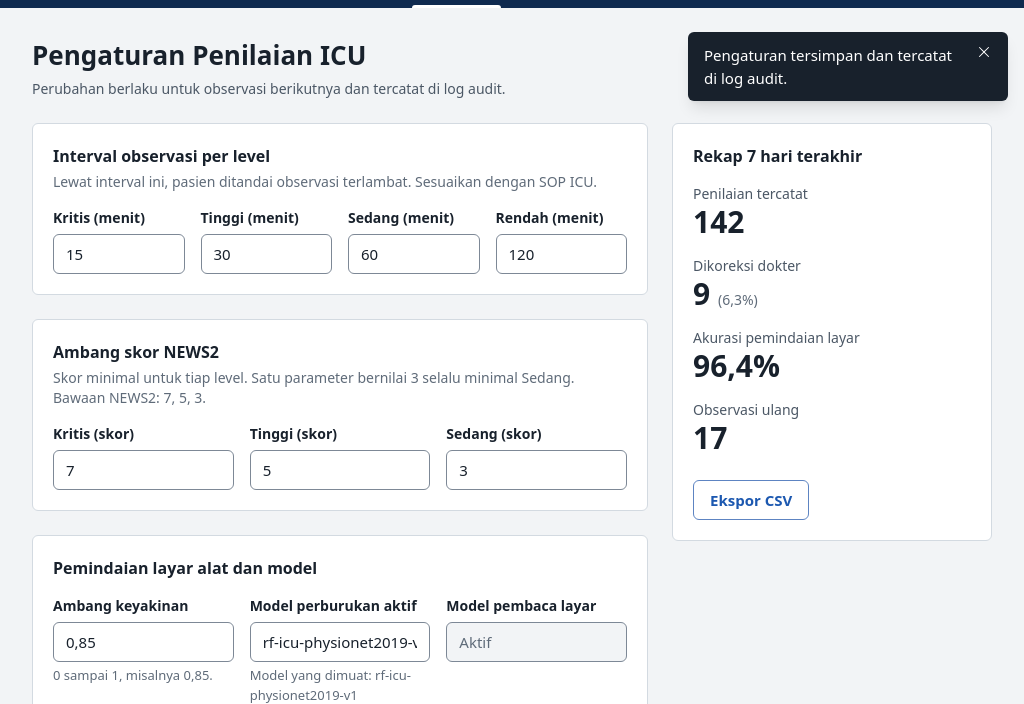
Pengaturan Penilaian ICU › menampilkan pesan urutan ambang dari server di kolomnya
Expected: the field showing "rf-icu-physionet2019-v1" is shown, [250, 622, 430, 662]
Replace the text in the field labelled "Tinggi (skor)" with "8" at (340, 470), box [250, 450, 430, 490]
(page scrolled)
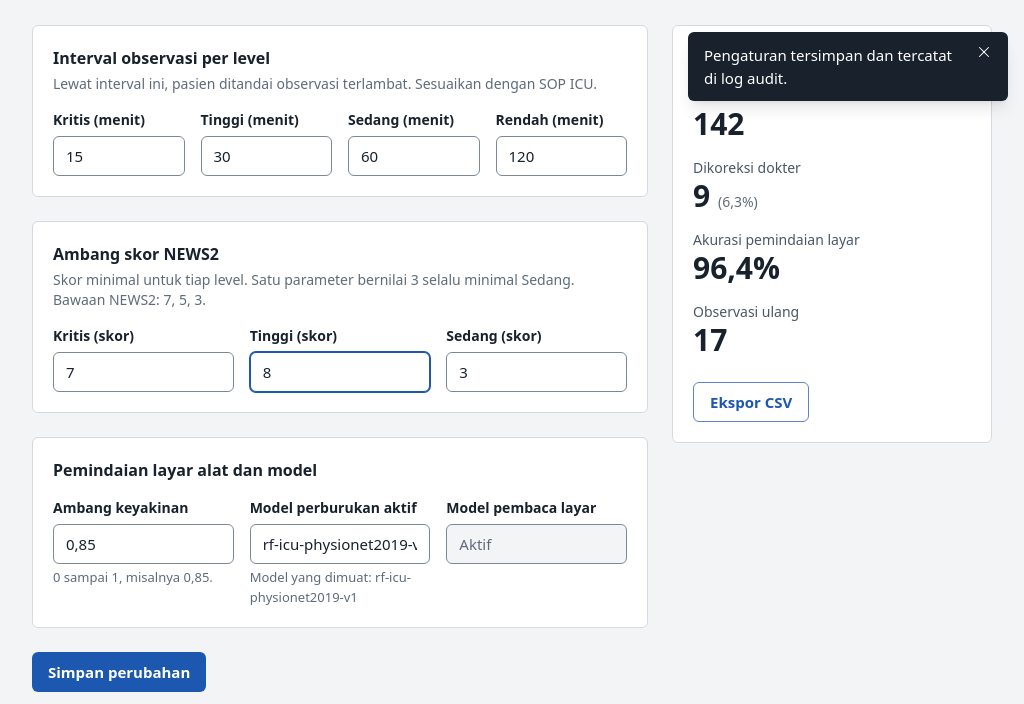
Click the button "Simpan perubahan" at (119, 672), box [32, 652, 206, 692]
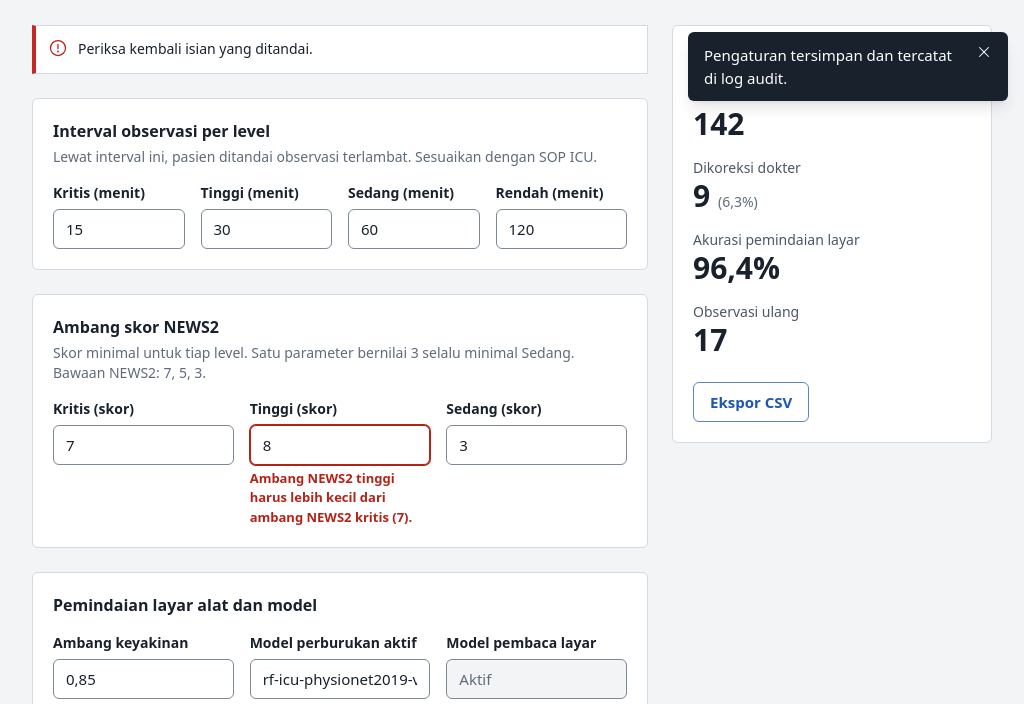
Now the text "Ambang NEWS2 tinggi harus lebih kecil dari ambang NEWS2 kritis (7)." is shown, box [250, 469, 430, 527]
